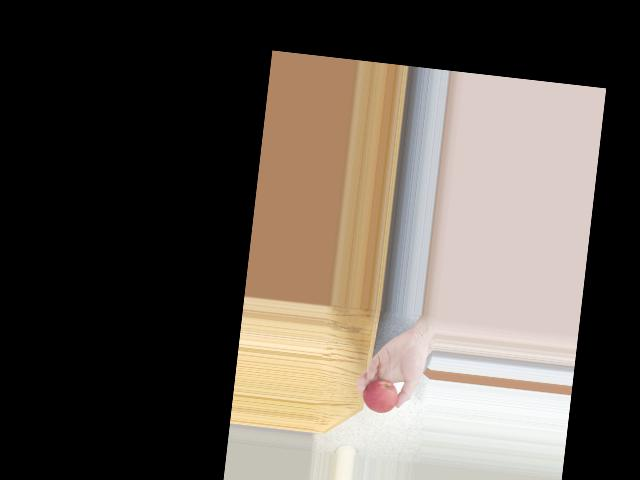apple: (361, 374, 401, 414)
